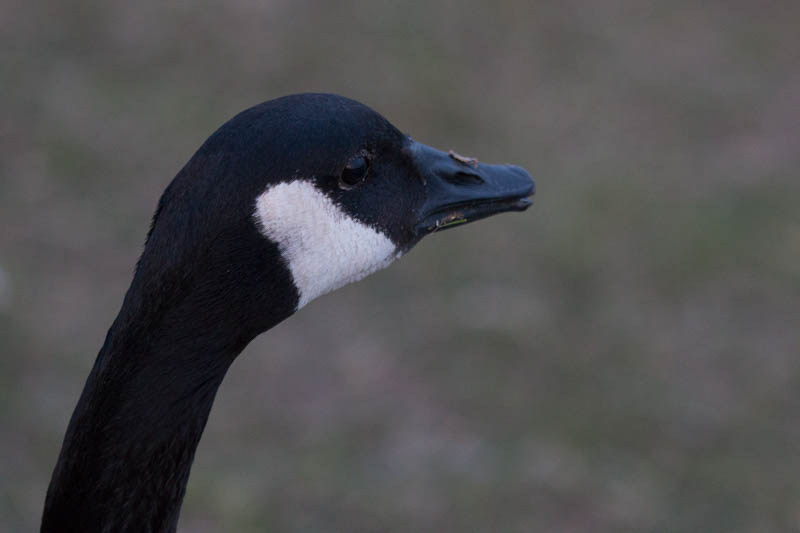goose-head: (143, 94, 536, 326)
